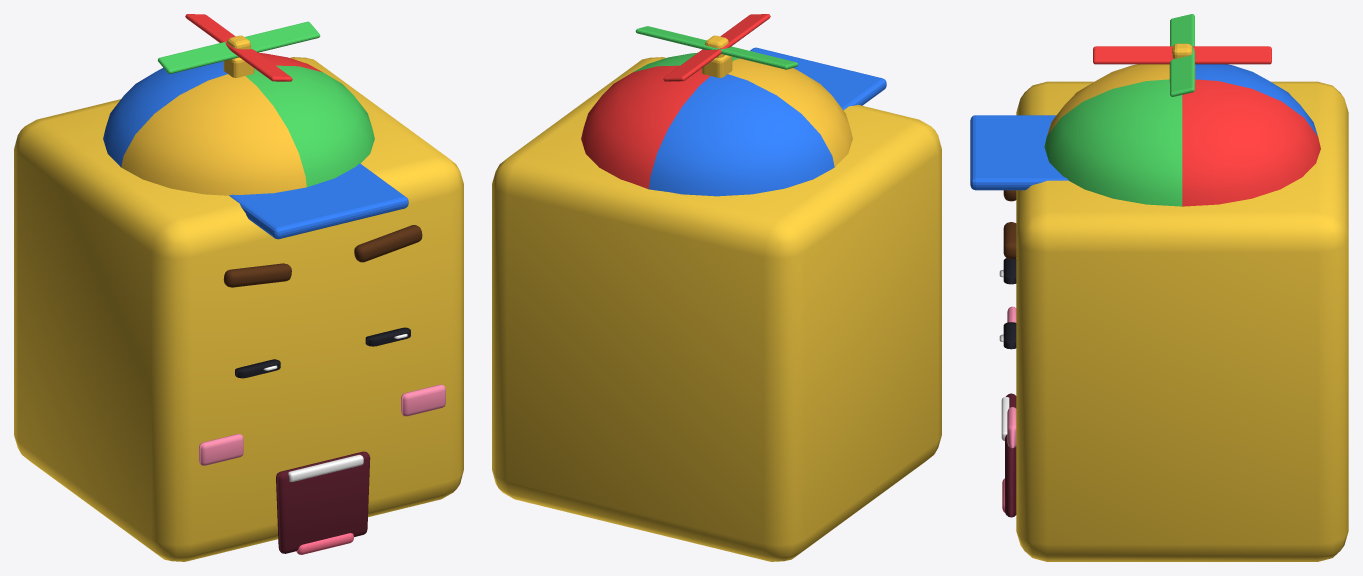
The model's file is mask.glb.
3 renders of one model, left to right at view 1: azimuth 30°, elevation 25°; view 2: azimuth 150°, elevation 25°; view 3: azimuth 270°, elevation 25°, orthographic.
Parts seen in each view (by area): view 1: Head, Cap, Propeller; view 2: Head, Cap, Propeller; view 3: Head, Cap, Propeller.
Part boxes in pixels (x1,y1,x2,y2): Head: (14, 57, 463, 561); Cap: (103, 52, 408, 239); Propeller: (158, 14, 320, 81); Head: (492, 57, 941, 561); Cap: (581, 47, 886, 196); Propeller: (635, 14, 798, 81); Head: (999, 81, 1348, 561); Cap: (970, 64, 1320, 206); Propeller: (1093, 14, 1271, 96).
Size of the model in its own units: 1.42 by 1.97 by 1.48.
